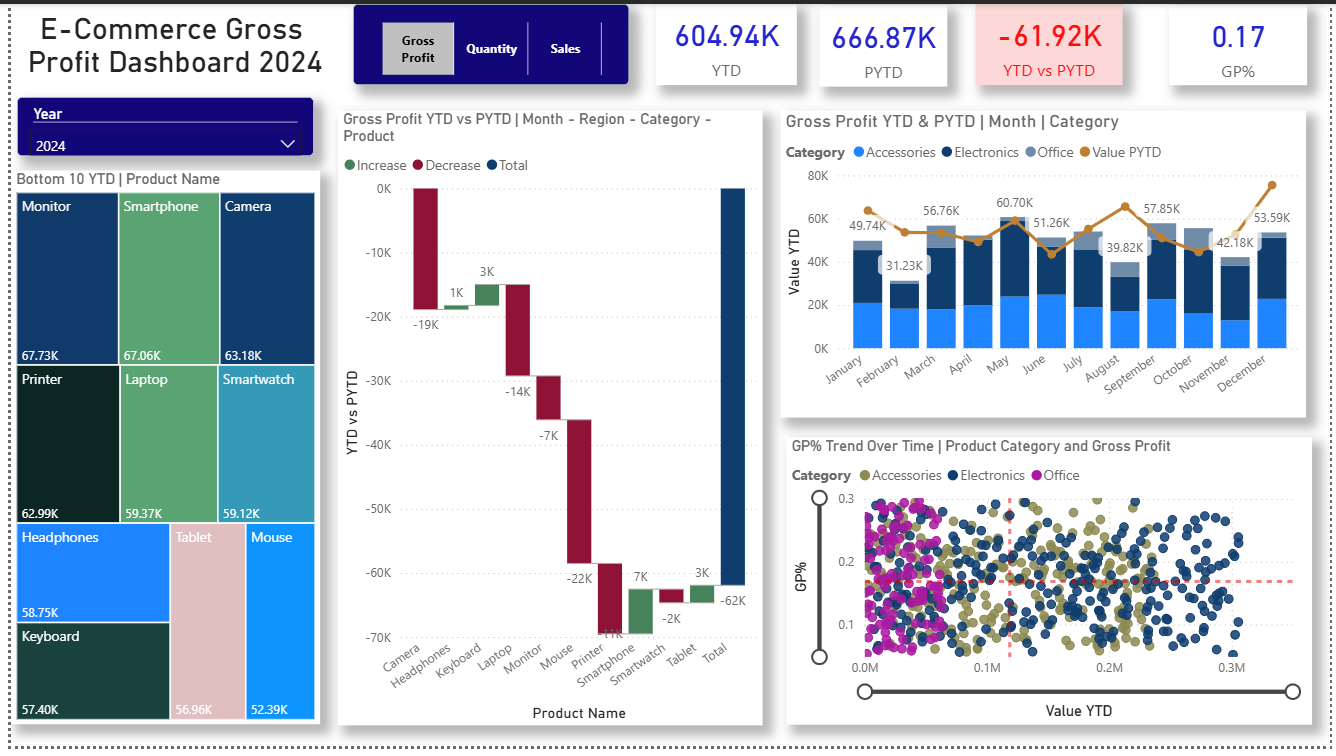

The dashboard page shown, as its layout file describes it:
{"tool":"powerbi","page":{"name":"PERFORMANCE DASHBOARD","canvas":[1280,720],"ordinal":0},"visuals":[{"type":"card","fields":{"Values":["_Measures._Report Title"]},"box":[0,0,318,80.3],"z":0},{"type":"card","fields":{"Values":["_Measures.S_YTD"]},"box":[625.9,0,136.8,78.6],"z":1000},{"type":"card","fields":{"Values":["_Measures.GP%"]},"box":[1123.7,1.5,133.9,77.1],"z":2000},{"type":"slicer","fields":{"Values":["Dim_Date.Date.Variation.Date Hierarchy.Year"]},"box":[6.1,90.9,287.7,57.5],"z":3000},{"type":"treemap","title":"Bottom 10 YTD | Product Name","fields":{"Details":["Dim_Product.Product Name"],"Values":["_Measures.S_YTD"]},"box":[0,162,299.8,537.5],"z":4000},{"type":"waterfallChart","fields":{"Category":["Dim_Date.Date.Variation.Date Hierarchy.Month","Dim_Region.Region","Dim_Product.Category","Dim_Product.Product Name"],"Y":["_Measures.YTD vs PYTD"]},"box":[318,103,411.9,596.6],"z":5000},{"type":"lineStackedColumnComboChart","fields":{"Category":["Dim_Date.Date.Variation.Date Hierarchy.Quarter","Dim_Date.Date.Variation.Date Hierarchy.Month"],"Y":["_Measures.S_YTD"],"Y2":["_Measures.S_PYTD"],"Series":["Dim_Product.Category"]},"box":[746.5,103,510.3,298.3],"z":6000},{"type":"slicer","fields":{"Values":["Slc_Values.Values"]},"box":[331.6,0,268,78.7],"z":7000},{"type":"card","fields":{"Values":["_Measures.S_PYTD"]},"box":[784.5,1.5,123.7,78.6],"z":8000},{"type":"card","fields":{"Values":["_Measures.YTD vs PYTD"]},"box":[935.9,0,142.6,78.6],"z":9000},{"type":"scatterChart","fields":{"Y":["_Measures.GP%"],"X":["_Measures.S_YTD"],"Series":["Dim_Product.Category"],"Category":["FACT_Table.Order Date"]},"box":[752.6,420.9,510.3,278.6],"z":10000}]}

Visuals, with their boxes in screenshot pixels (x1, y1, x2, y2), scaled from the page's 1280x720 canvas onto the 1336x756 screenshot:
card - _Measures._Report Title: x1=0, y1=0, x2=332, y2=84
card - _Measures.S_YTD: x1=653, y1=0, x2=796, y2=83
card - _Measures.GP%: x1=1173, y1=2, x2=1313, y2=83
slicer - Dim_Date.Date.Variation.Date Hierarchy.Year: x1=6, y1=95, x2=307, y2=156
"Bottom 10 YTD | Product Name" treemap: x1=0, y1=170, x2=313, y2=734
waterfallChart - Dim_Date.Date.Variation.Date Hierarchy.Month x Dim_Region.Region: x1=332, y1=108, x2=762, y2=735
lineStackedColumnComboChart - Dim_Date.Date.Variation.Date Hierarchy.Quarter x Dim_Date.Date.Variation.Date Hierarchy.Month: x1=779, y1=108, x2=1312, y2=421
slicer - Slc_Values.Values: x1=346, y1=0, x2=626, y2=83
card - _Measures.S_PYTD: x1=819, y1=2, x2=948, y2=84
card - _Measures.YTD vs PYTD: x1=977, y1=0, x2=1126, y2=83
scatterChart - _Measures.GP% x _Measures.S_YTD: x1=786, y1=442, x2=1318, y2=734
